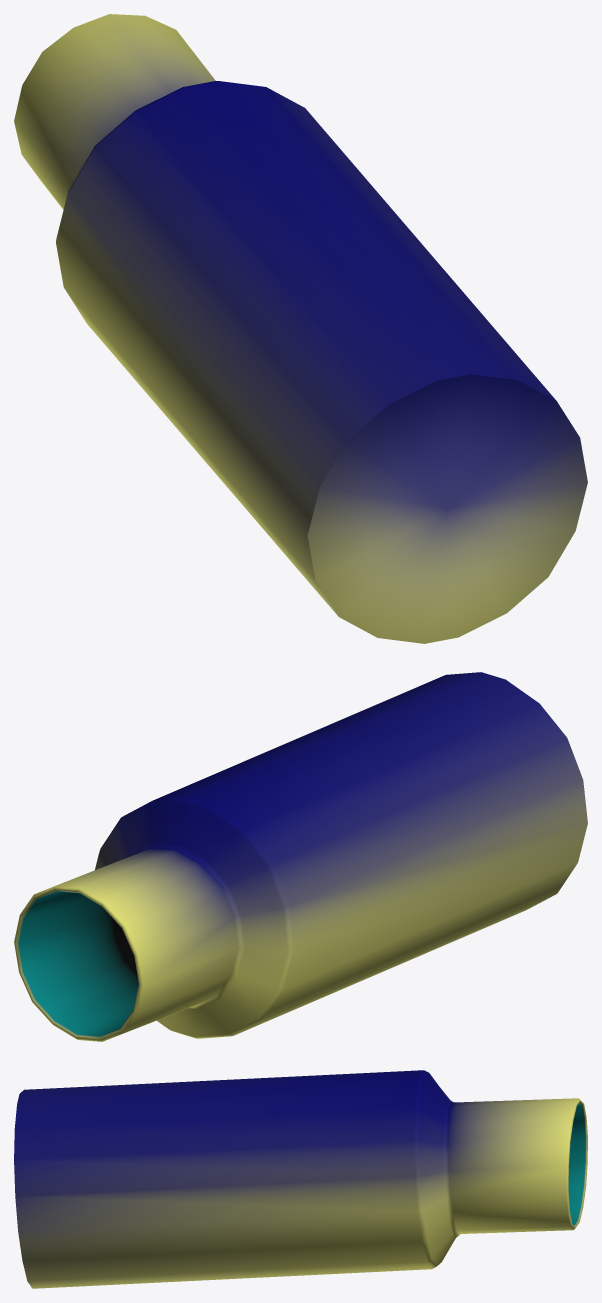
The model's file is Car_Nissan_SkylineGTRVspecR34_1999_Exhausts_SetE.fbx.
3 views of the same model, one above another, from view 1: azimuth 30°, elevation 25°; view 2: azimuth 150°, elevation 25°; view 3: azimuth 270°, elevation 25° (orthographic). The views are drawn at different scales.
Parts seen in each view (by area): view 1: Exhausts 6; view 2: Exhausts 6; view 3: Exhausts 6.
Boxes of the visible parts, x1,y1,x2,y2 form: Exhausts 6: (14,14,587,643); Exhausts 6: (14,672,587,1041); Exhausts 6: (14,1070,587,1288).
Size of the model in its own units: 0.2002 by 0.1989 by 0.4774.
